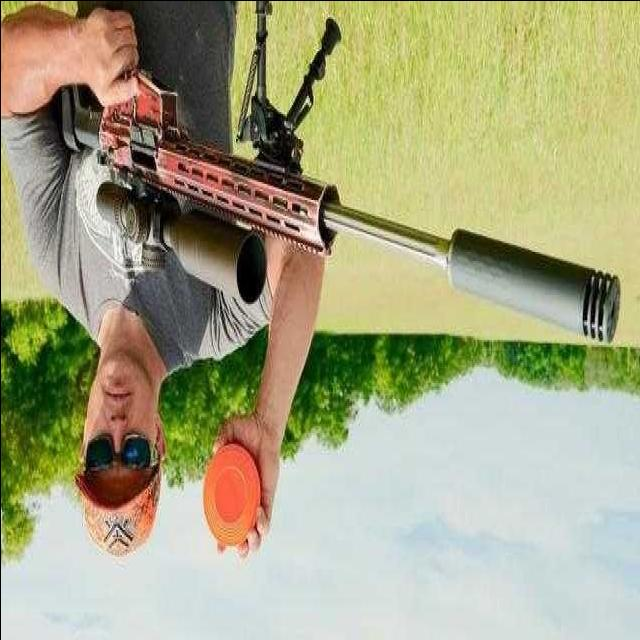heavyweapon: (82, 1, 606, 374)
